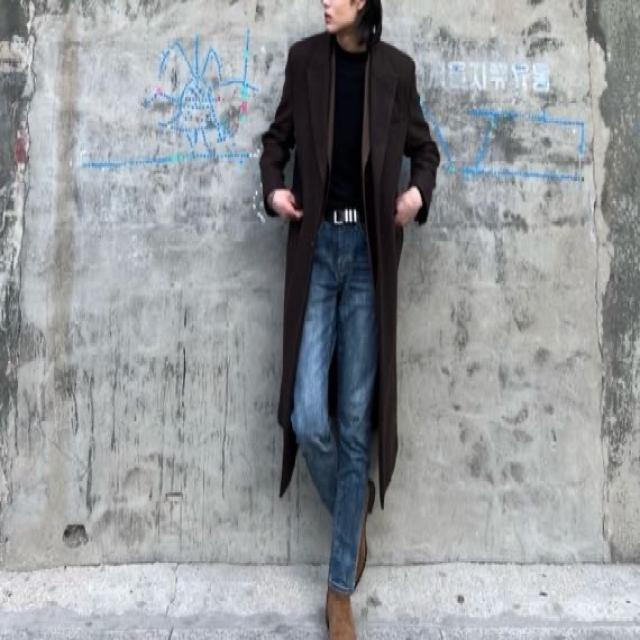coat: (260, 19, 442, 512)
denimpants: (290, 219, 374, 593)
